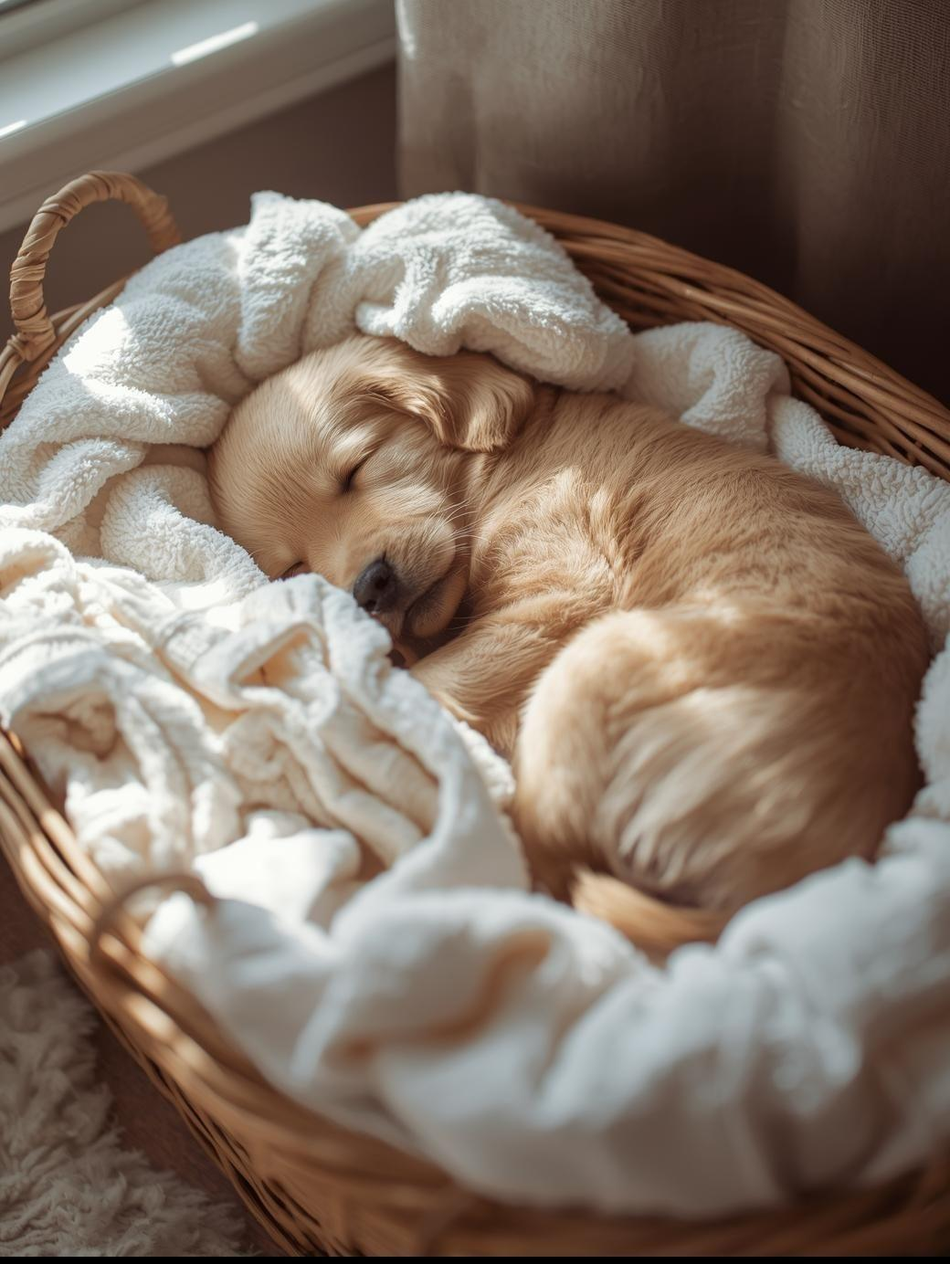puppy-dog: (203, 329, 937, 963)
